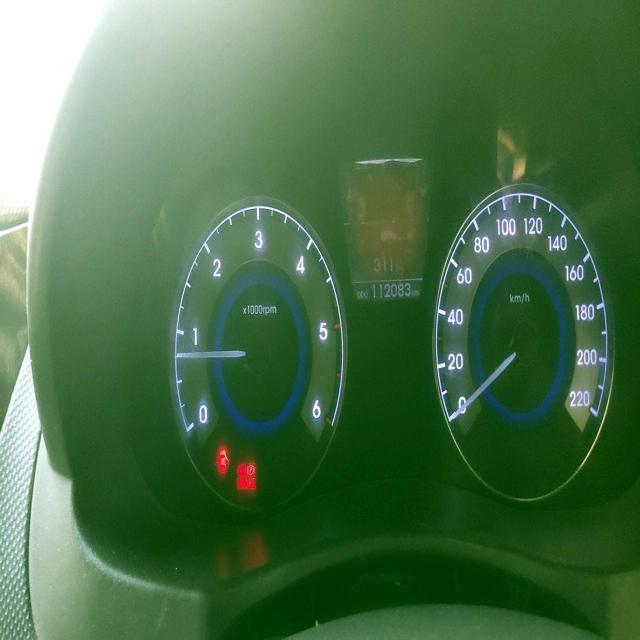odometer: (369, 279, 412, 303)
